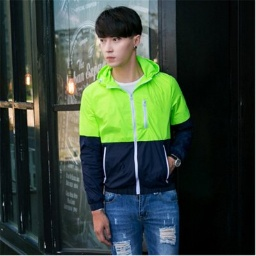face: (96, 7, 144, 68)
